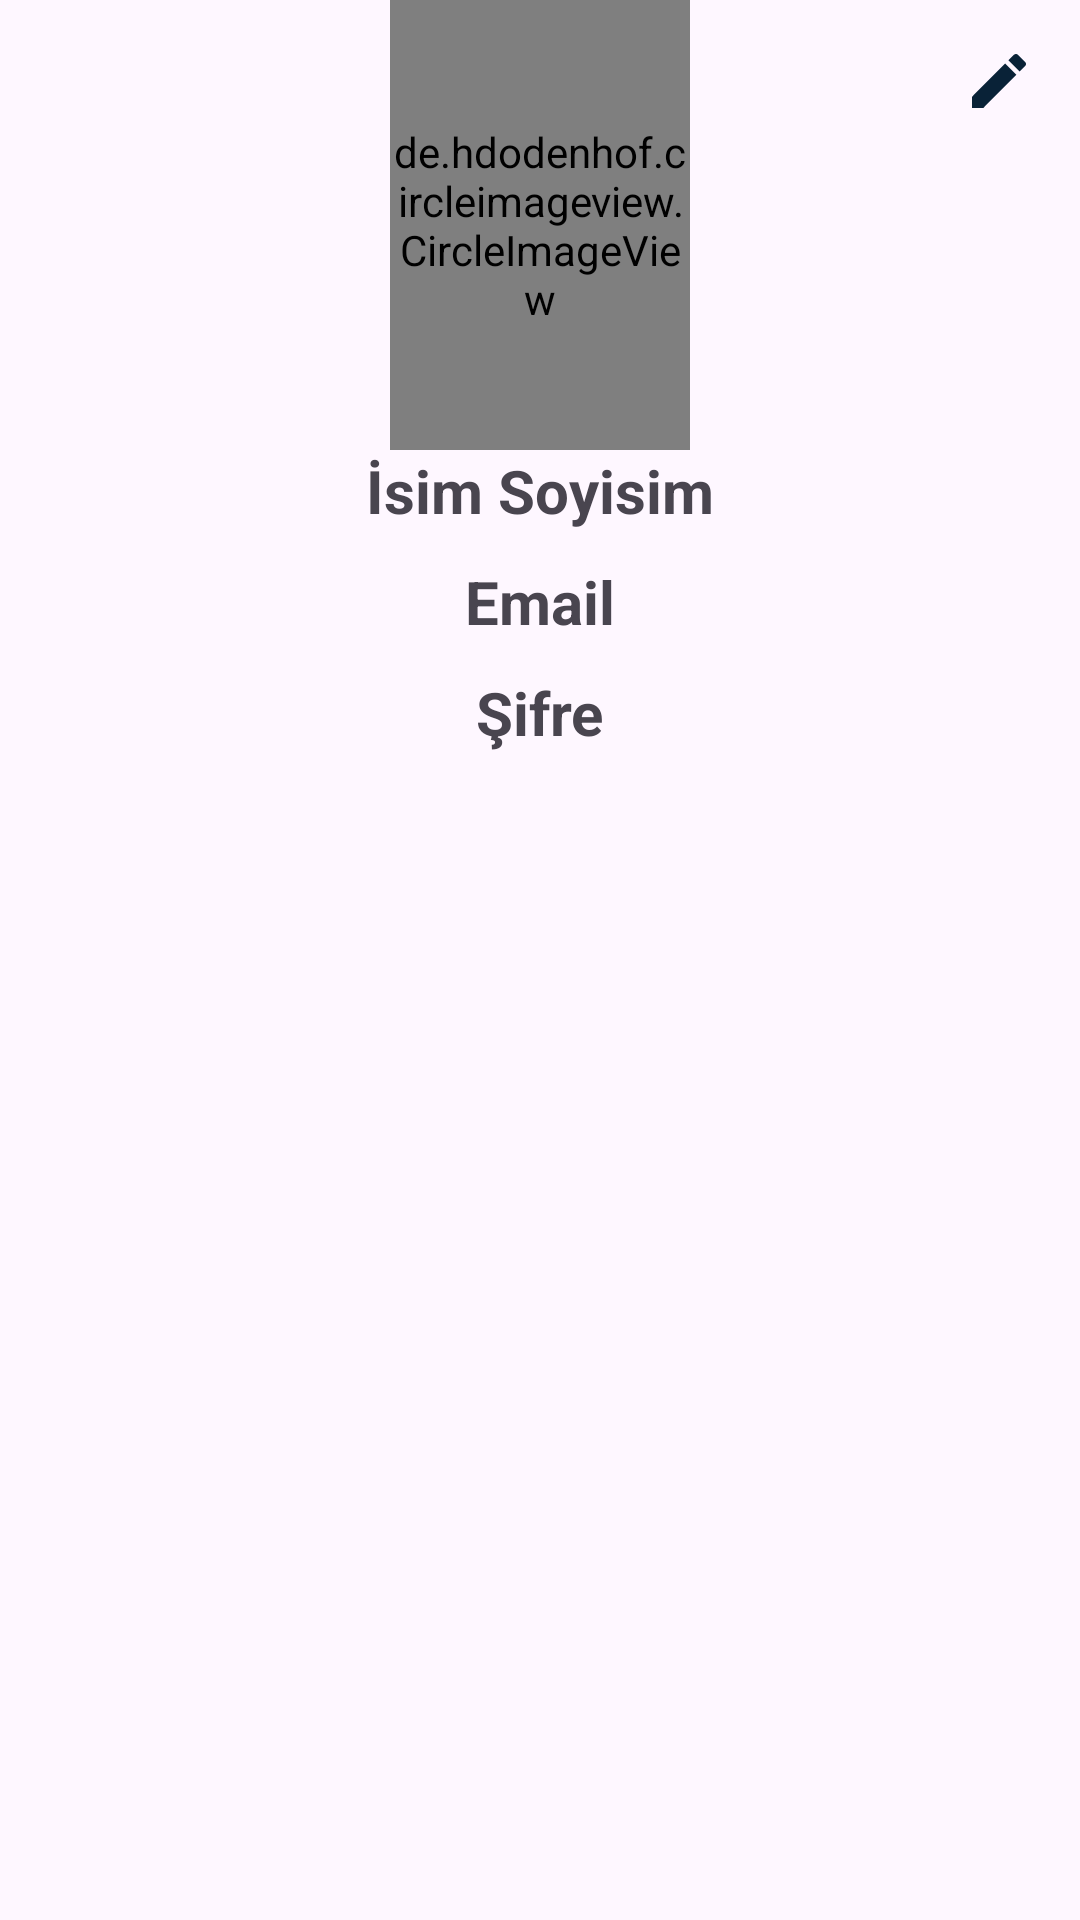

Where to tap for icons on this 1080w x 1920h app screen, as (x=x, y=y):
edit: (x=999, y=81)
